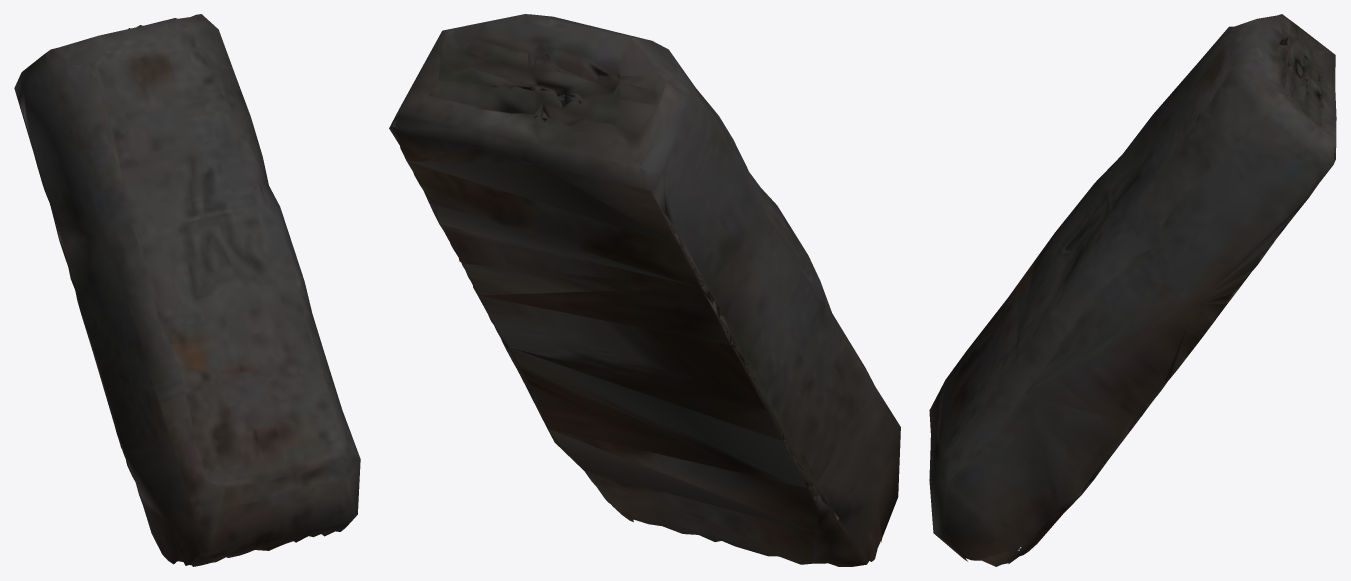
File: lingote_ferro.glb
3 renders of one model, left to right at view 1: azimuth 30°, elevation 25°; view 2: azimuth 150°, elevation 25°; view 3: azimuth 270°, elevation 25°, orthographic. The views are drawn at different scales.
Parts seen in each view (by area): view 1: geometry_0; view 2: geometry_0; view 3: geometry_0.
Boxes of the visible parts, x1,y1,x2,y2 form: geometry_0: (14, 14, 360, 566); geometry_0: (389, 14, 900, 566); geometry_0: (929, 14, 1336, 566).
Bounding box in the file's own units: 0.4345 × 1 × 0.7616.
1 material, 1 textured.
